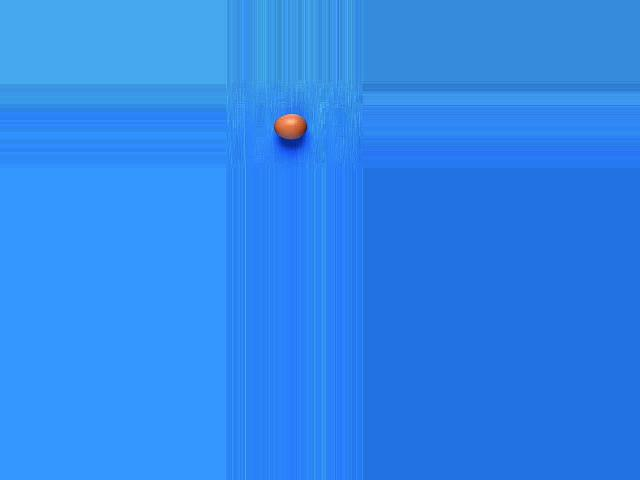egg: (274, 113, 306, 140)
